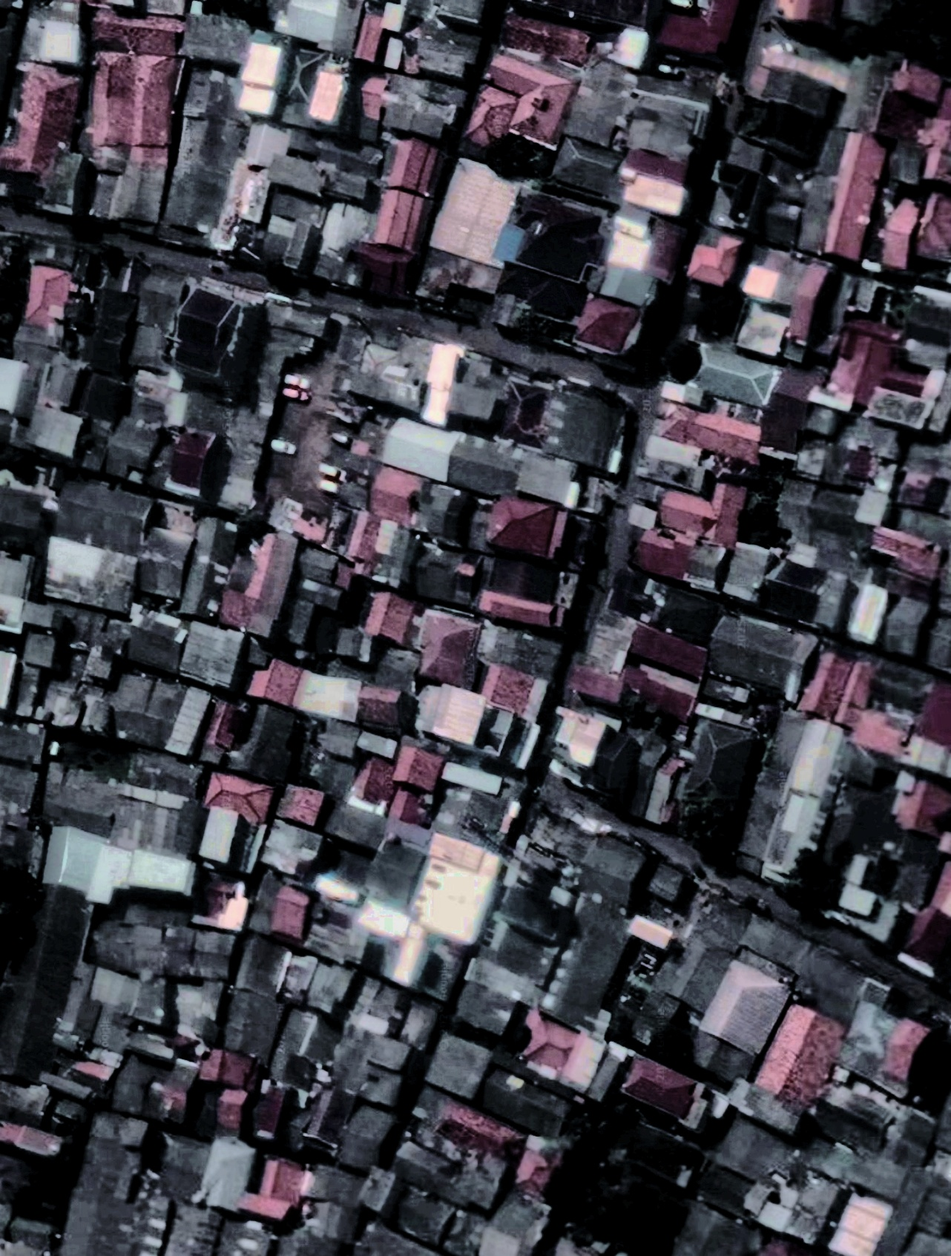building: (304, 809, 459, 986), (725, 705, 859, 893), (152, 63, 261, 254), (0, 879, 98, 1088), (57, 1105, 184, 1256), (730, 996, 858, 1142), (227, 294, 337, 458), (724, 910, 873, 1026), (757, 715, 855, 890), (70, 962, 225, 1065), (533, 893, 638, 1035), (683, 956, 794, 1088), (797, 649, 925, 762), (209, 523, 323, 647), (452, 921, 564, 1046), (502, 1001, 628, 1108), (834, 42, 951, 153), (836, 977, 939, 1103), (401, 1083, 524, 1184), (818, 130, 904, 268), (404, 828, 504, 946), (412, 680, 543, 769), (701, 605, 821, 701), (442, 433, 582, 515), (428, 155, 528, 269), (469, 45, 580, 146), (503, 189, 618, 286), (616, 1052, 736, 1144), (158, 280, 260, 388), (831, 312, 933, 420), (108, 741, 212, 846), (856, 1091, 949, 1207), (331, 313, 439, 405), (152, 1128, 228, 1256), (592, 202, 677, 310), (46, 481, 158, 561), (631, 515, 737, 599), (109, 671, 212, 757), (388, 1140, 509, 1213), (698, 1151, 803, 1234), (268, 1001, 354, 1102), (279, 124, 387, 204), (711, 1114, 812, 1199), (11, 58, 83, 177), (307, 794, 387, 901), (36, 537, 145, 614), (88, 838, 196, 914), (39, 599, 134, 685), (473, 1064, 575, 1144), (815, 1070, 908, 1157), (406, 474, 501, 559), (651, 397, 768, 466), (198, 404, 270, 516), (750, 359, 826, 461), (542, 386, 630, 473), (821, 412, 909, 499), (477, 553, 576, 630), (653, 469, 744, 552), (227, 696, 309, 788), (624, 75, 711, 161), (871, 1160, 951, 1253), (207, 157, 279, 260), (413, 605, 499, 691), (333, 1022, 418, 1108), (490, 877, 583, 955), (561, 52, 638, 144), (776, 474, 869, 550), (661, 923, 738, 1014), (789, 1115, 876, 1195), (658, 0, 753, 73), (255, 185, 332, 275), (292, 1161, 374, 1245), (616, 1117, 706, 1193), (431, 777, 521, 853), (688, 340, 781, 413), (574, 827, 657, 908), (379, 738, 453, 828), (633, 950, 699, 1050), (374, 410, 463, 484), (520, 799, 610, 872), (91, 404, 168, 489), (37, 760, 123, 836), (211, 977, 288, 1061), (494, 260, 590, 327), (487, 490, 572, 565), (414, 246, 503, 316), (182, 511, 239, 619), (283, 44, 352, 133), (244, 870, 322, 948), (615, 657, 704, 725), (877, 593, 951, 674), (88, 44, 142, 153), (569, 288, 646, 364), (45, 1033, 123, 1108), (688, 719, 760, 800), (126, 52, 185, 150), (551, 133, 632, 204), (735, 96, 826, 158), (380, 76, 465, 142), (864, 518, 949, 584), (475, 1185, 554, 1256), (111, 139, 174, 228), (478, 617, 565, 681), (193, 801, 267, 876), (0, 758, 46, 878), (178, 5, 260, 72), (878, 767, 951, 842), (498, 12, 594, 69), (668, 1201, 767, 1256), (779, 1165, 847, 1245), (752, 59, 841, 120), (242, 1153, 315, 1227), (408, 536, 483, 608), (123, 603, 199, 674), (332, 1098, 401, 1176), (312, 198, 374, 284), (584, 727, 648, 809), (780, 256, 837, 348), (36, 818, 102, 897), (447, 352, 513, 431), (901, 675, 951, 779), (178, 620, 251, 691), (407, 930, 474, 1005), (133, 522, 199, 598), (373, 911, 437, 989), (266, 495, 353, 552), (403, 20, 484, 81), (102, 1048, 167, 1123), (738, 240, 807, 310), (629, 621, 712, 679), (703, 159, 767, 234), (758, 556, 830, 622), (274, 0, 362, 54), (258, 818, 331, 883), (51, 677, 125, 741), (370, 179, 433, 254), (558, 654, 633, 717), (343, 237, 418, 299), (0, 548, 56, 631), (893, 901, 951, 981), (423, 1032, 490, 1101), (366, 829, 426, 906), (366, 522, 432, 592), (235, 923, 299, 995), (475, 659, 554, 717), (89, 5, 180, 55), (231, 39, 289, 117), (497, 371, 556, 447), (579, 607, 640, 680), (414, 340, 465, 427), (202, 767, 281, 823), (363, 459, 429, 526), (792, 171, 844, 256), (292, 663, 365, 723), (389, 1185, 458, 1248), (0, 479, 54, 558), (200, 1137, 256, 1213), (688, 891, 754, 955), (200, 1040, 270, 1100), (87, 287, 134, 376), (547, 706, 612, 770), (359, 583, 422, 649), (874, 193, 925, 274), (22, 401, 88, 463), (192, 872, 255, 936), (388, 131, 449, 197), (831, 1186, 888, 1256), (21, 260, 77, 330), (685, 227, 747, 290), (127, 263, 184, 331), (165, 424, 216, 500), (350, 975, 413, 1036), (128, 369, 191, 430), (339, 508, 398, 573), (733, 299, 794, 361), (305, 1080, 359, 1150), (508, 1134, 567, 1198), (638, 215, 691, 286), (38, 149, 91, 219), (467, 84, 524, 149), (200, 696, 251, 768), (242, 651, 306, 708), (351, 1219, 448, 1256), (596, 257, 661, 312), (76, 368, 138, 425), (41, 0, 94, 66), (515, 0, 647, 26), (847, 888, 906, 946), (620, 170, 689, 219), (864, 384, 933, 433), (33, 353, 88, 414), (159, 1055, 203, 1130), (507, 831, 567, 885), (892, 462, 950, 517), (183, 921, 237, 980), (300, 748, 360, 801), (352, 681, 413, 732), (267, 150, 329, 200), (13, 661, 62, 723), (0, 1117, 66, 1163), (178, 388, 238, 438), (242, 114, 294, 170), (8, 319, 64, 371), (92, 915, 142, 973), (904, 286, 950, 349), (396, 990, 445, 1049), (354, 896, 414, 944), (371, 642, 425, 695), (277, 218, 326, 276), (352, 755, 402, 811), (309, 959, 356, 1018), (0, 711, 46, 771), (0, 1076, 52, 1128), (278, 947, 322, 1008), (278, 780, 332, 829), (357, 1165, 404, 1219), (440, 759, 506, 797), (758, 195, 804, 249), (348, 409, 394, 463), (644, 860, 694, 909), (351, 8, 393, 65), (7, 1214, 63, 1256), (105, 252, 152, 302), (313, 716, 364, 761), (402, 0, 489, 26), (605, 227, 654, 272), (215, 1219, 274, 1256), (644, 434, 703, 471), (791, 434, 834, 482), (278, 1225, 346, 1255), (269, 190, 327, 225), (294, 543, 342, 585), (332, 622, 378, 664), (626, 913, 676, 951), (333, 466, 374, 511), (803, 401, 848, 442), (835, 881, 881, 921), (217, 1089, 252, 1140), (296, 575, 345, 611), (283, 597, 318, 647), (356, 71, 390, 122), (776, 0, 840, 26), (256, 1081, 283, 1142), (854, 486, 893, 528), (332, 446, 377, 481), (135, 925, 167, 973), (355, 729, 399, 760), (842, 851, 874, 888), (24, 630, 59, 663), (329, 559, 361, 592), (2, 650, 20, 708), (381, 36, 406, 70), (381, 1, 406, 32)
tree: (775, 848, 848, 921), (677, 790, 747, 864), (589, 1199, 676, 1253), (488, 133, 556, 188), (742, 471, 791, 546), (684, 280, 745, 340), (0, 868, 28, 973), (647, 1016, 699, 1071), (563, 1106, 616, 1159), (552, 1161, 601, 1217), (660, 335, 711, 388), (516, 307, 565, 347), (1, 271, 23, 356), (450, 1017, 497, 1051), (619, 696, 652, 730), (606, 1011, 637, 1046), (579, 541, 607, 571), (507, 1024, 532, 1055)
